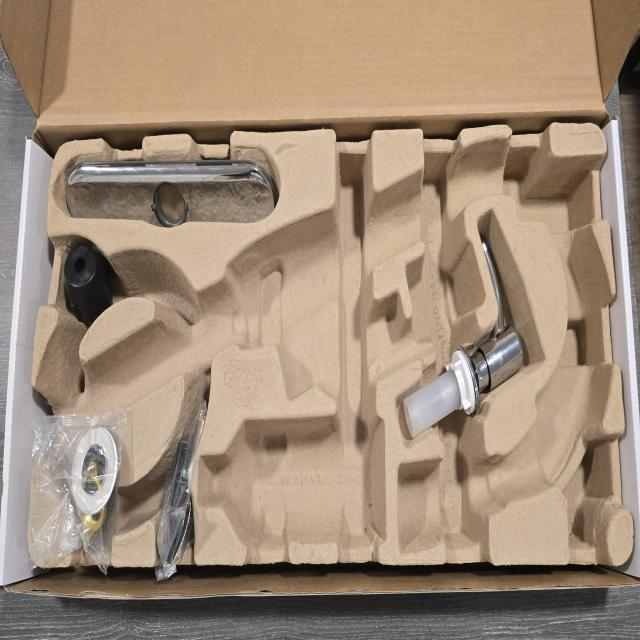1m: (41, 157, 614, 558)
2: (403, 240, 524, 438)
3m: (199, 418, 385, 545)
4: (65, 162, 276, 227)
5: (64, 243, 114, 326)
6: (28, 408, 126, 576)
7: (154, 397, 207, 580)
